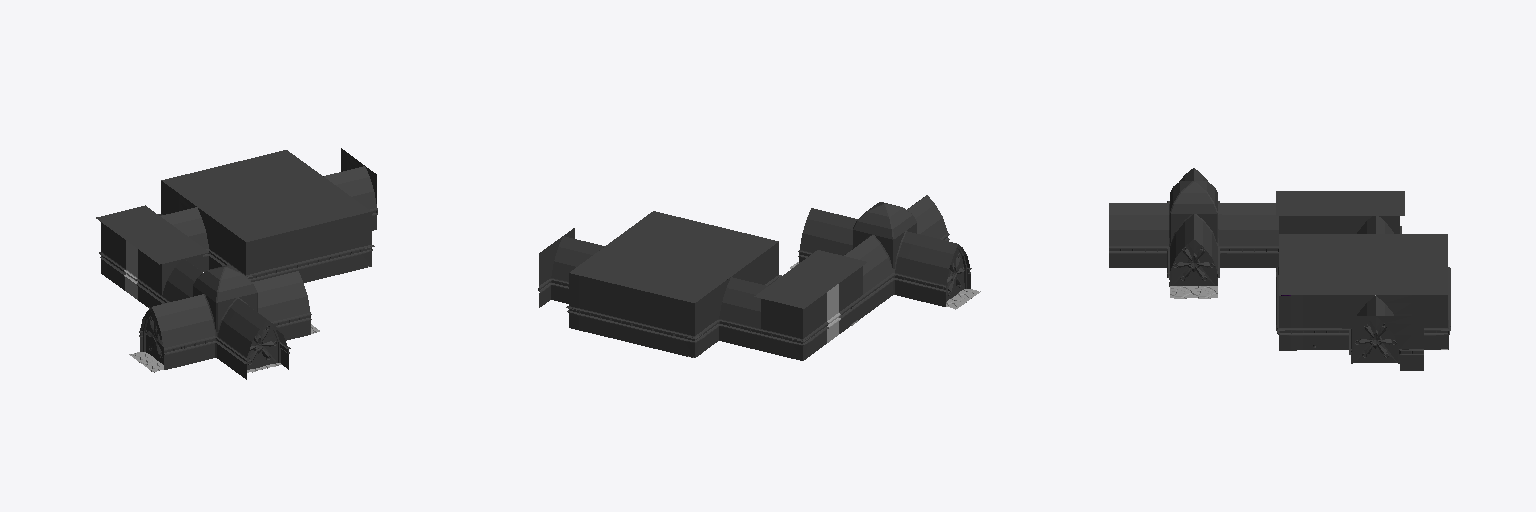
3 renders of one model, left to right at view 1: azimuth 30°, elevation 25°; view 2: azimuth 150°, elevation 25°; view 3: azimuth 270°, elevation 25°, orthographic.
Visible parts, largest first — view 1: Blight_Cobbled_block_floor_tile.001_Blight_Cobbled_block_floor_t, Blight_Cobbled_block_floor_tile.027_Blight_Cobbled_block_floor_t, Blight_Cobbled_block_floor_tile.004_Blight_Cobbled_block_floor_t; view 2: Blight_Cobbled_block_floor_tile.001_Blight_Cobbled_block_floor_t, Blight_Cobbled_block_floor_tile.027_Blight_Cobbled_block_floor_t, Blight_Cobbled_block_floor_tile.004_Blight_Cobbled_block_floor_t; view 3: Blight_Cobbled_block_floor_tile.027_Blight_Cobbled_block_floor_t, Blight_Cobbled_block_floor_tile.001_Blight_Cobbled_block_floor_t, Blight_Cobbled_block_floor_tile.004_Blight_Cobbled_block_floor_t.
Boxes of the visible parts, x1,y1,x2,y2 form: Blight_Cobbled_block_floor_tile.001_Blight_Cobbled_block_floor_t: [158, 150, 374, 282]; Blight_Cobbled_block_floor_tile.027_Blight_Cobbled_block_floor_t: [129, 148, 377, 379]; Blight_Cobbled_block_floor_tile.004_Blight_Cobbled_block_floor_t: [96, 205, 208, 308]; Blight_Cobbled_block_floor_tile.001_Blight_Cobbled_block_floor_t: [566, 211, 781, 357]; Blight_Cobbled_block_floor_tile.027_Blight_Cobbled_block_floor_t: [538, 195, 980, 357]; Blight_Cobbled_block_floor_tile.004_Blight_Cobbled_block_floor_t: [754, 250, 866, 360]; Blight_Cobbled_block_floor_tile.027_Blight_Cobbled_block_floor_t: [1109, 168, 1447, 370]; Blight_Cobbled_block_floor_tile.001_Blight_Cobbled_block_floor_t: [1276, 234, 1450, 350]; Blight_Cobbled_block_floor_tile.004_Blight_Cobbled_block_floor_t: [1276, 191, 1404, 233].
Size of the model in its own units: 30.07 by 7.04 by 28.21.
8 materials, 1 textured.